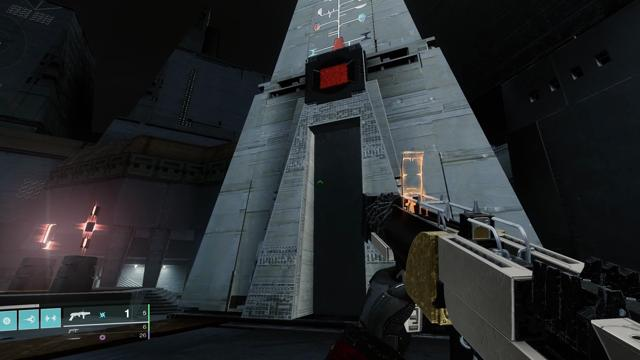stop: (312, 56, 356, 95)
